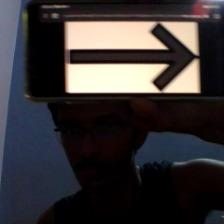right: (69, 20, 200, 93)
